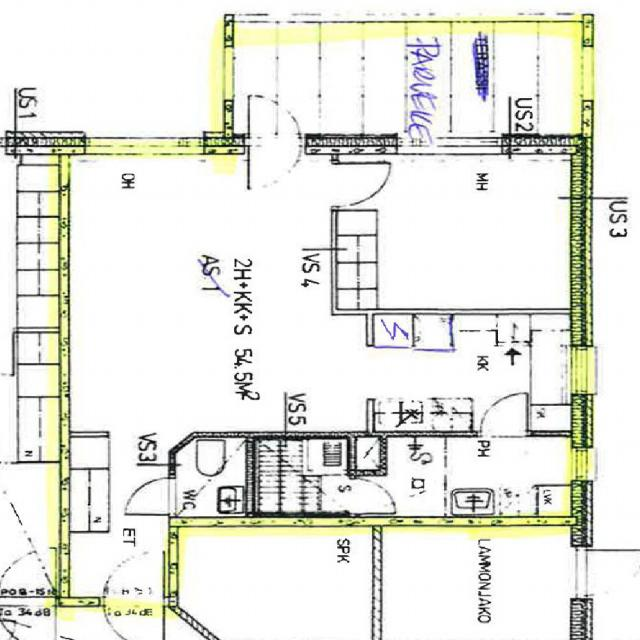door: (103, 548, 164, 606), (249, 134, 300, 195), (249, 94, 300, 154), (103, 596, 164, 640), (331, 163, 391, 207), (480, 394, 527, 436), (122, 478, 175, 514), (348, 478, 398, 512)
